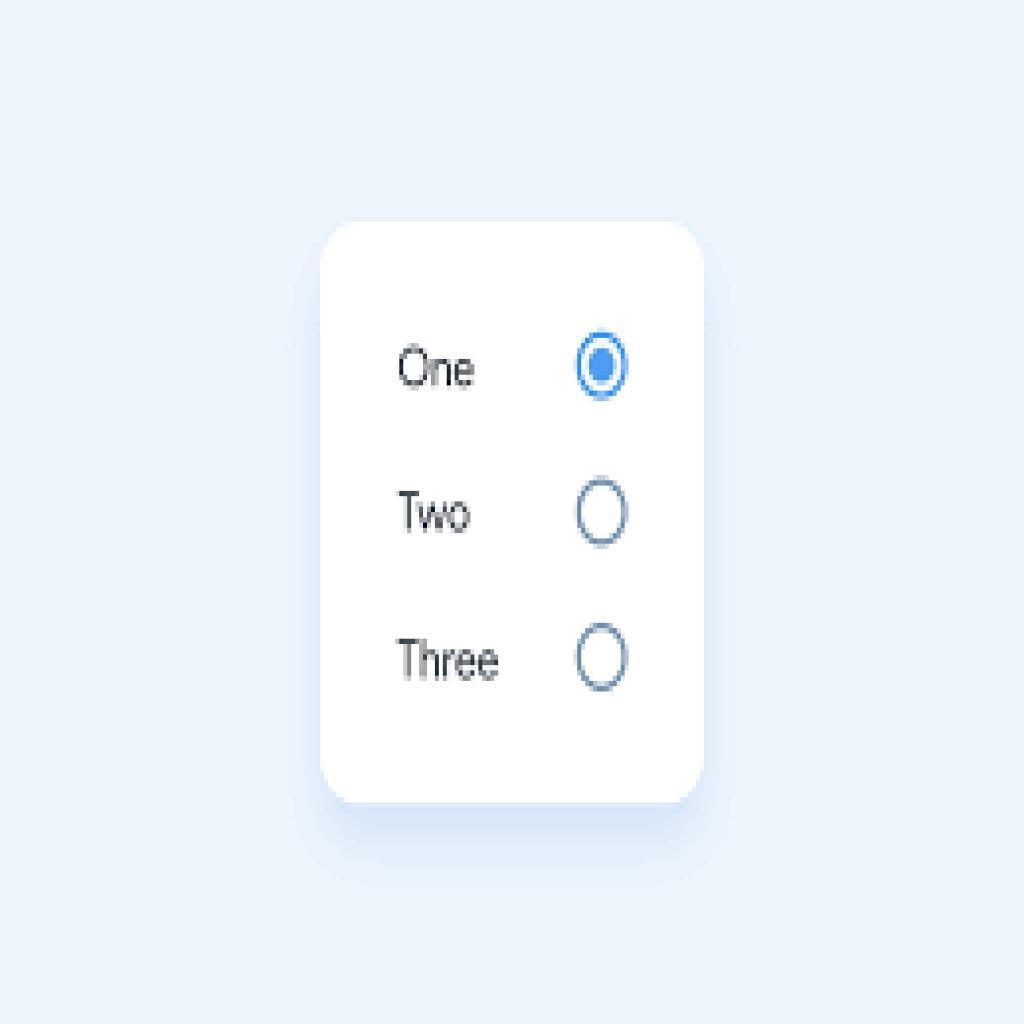radio: (576, 324, 633, 408), (571, 618, 633, 694), (573, 473, 632, 548)
